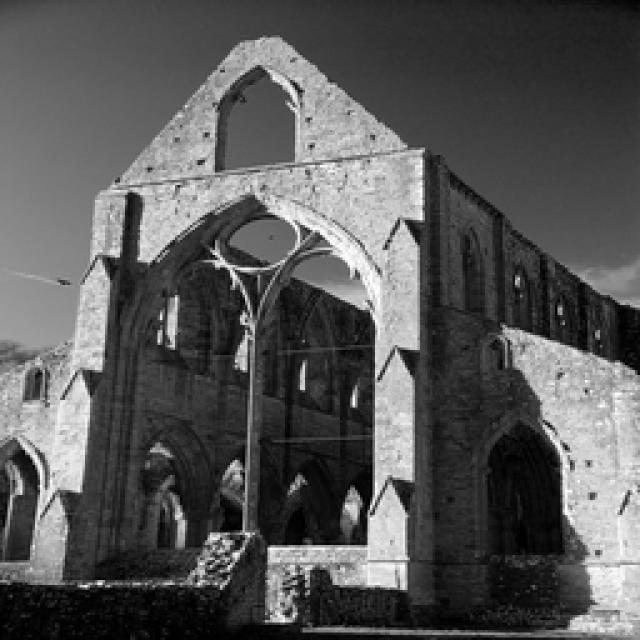Abbey: (102, 214, 422, 544)
